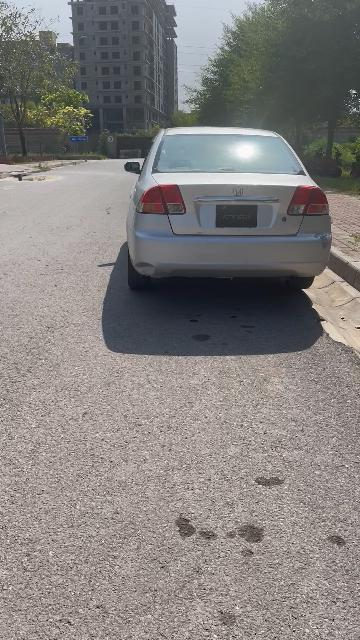plate: (215, 204, 259, 228)
